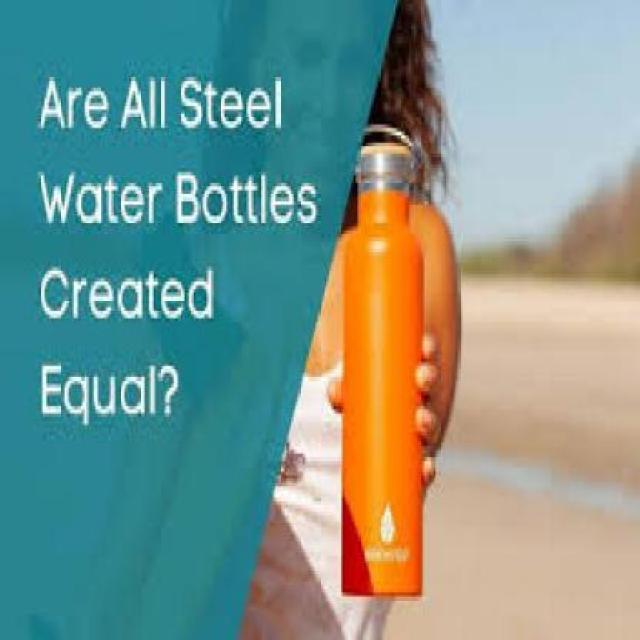Drinking: (338, 124, 432, 618)
